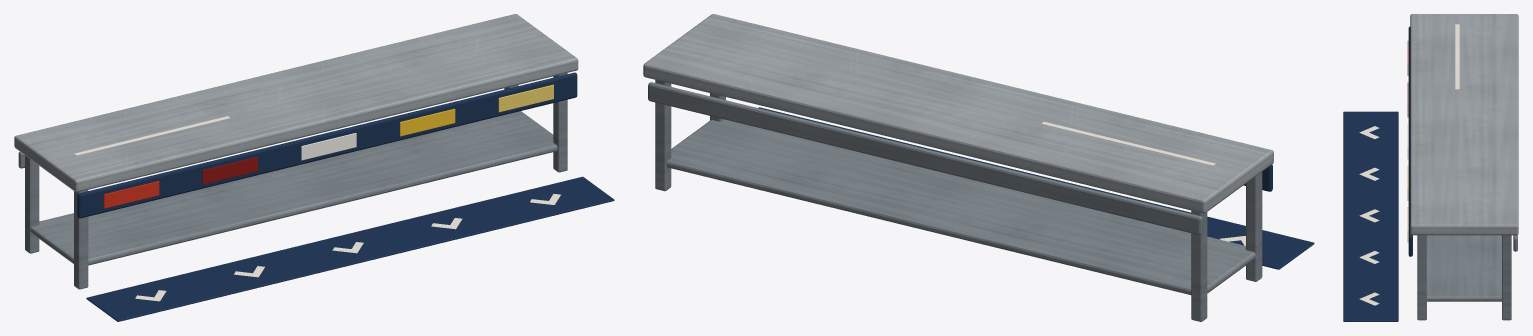
The model's file is seasoning_station.glb.
3 renders of one model, left to right at view 1: azimuth 30°, elevation 25°; view 2: azimuth 150°, elevation 25°; view 3: azimuth 270°, elevation 25°, orthographic. The views are drawn at different scales.
Visible parts, largest first — view 1: counter, Shelf, ServiceMat, ServiceFascia, Leg.001, Leg, Leg.002, IngredientStripe.002, IngredientStripe.003, IngredientStripe, IngredientStripe.001, IngredientStripe.004 (+1 smaller); view 2: counter, Shelf, KitchenRail, ServiceMat, Leg, Leg.001, Leg.003, PaprikaPair; view 3: counter, ServiceMat, Shelf, Leg.002, Leg.003, ServiceFascia, PaprikaPair.
Part boxes in pixels (box(x1,y1,x2,y2)): counter: box(14, 14, 578, 192); Shelf: box(30, 111, 557, 265); ServiceMat: box(86, 176, 614, 321); ServiceFascia: box(77, 72, 577, 218); Leg.001: box(25, 155, 39, 253); Leg: box(74, 190, 88, 289); Leg.002: box(553, 73, 567, 172); IngredientStripe.002: box(301, 133, 356, 160); IngredientStripe.003: box(400, 108, 455, 136); IngredientStripe: box(104, 181, 159, 208); IngredientStripe.001: box(202, 157, 257, 184); IngredientStripe.004: box(498, 84, 553, 112); counter: box(643, 14, 1273, 213); Shelf: box(666, 119, 1255, 294); KitchenRail: box(648, 82, 1202, 235); ServiceMat: box(758, 107, 1314, 269); Leg: box(1246, 172, 1262, 281); Leg.001: box(1191, 210, 1207, 321); Leg.003: box(655, 80, 671, 191); PaprikaPair: box(1041, 121, 1215, 165); counter: box(1410, 14, 1518, 235); ServiceMat: box(1343, 111, 1398, 321); Shelf: box(1426, 235, 1501, 301); Leg.002: box(1417, 235, 1426, 320); Leg.003: box(1502, 235, 1511, 320); ServiceFascia: box(1408, 26, 1412, 256); PaprikaPair: box(1455, 24, 1459, 89).
Bounding box in the file's own units: 5.1 × 1.1 × 1.78.
Materials: 3 (3 with a texture image).
